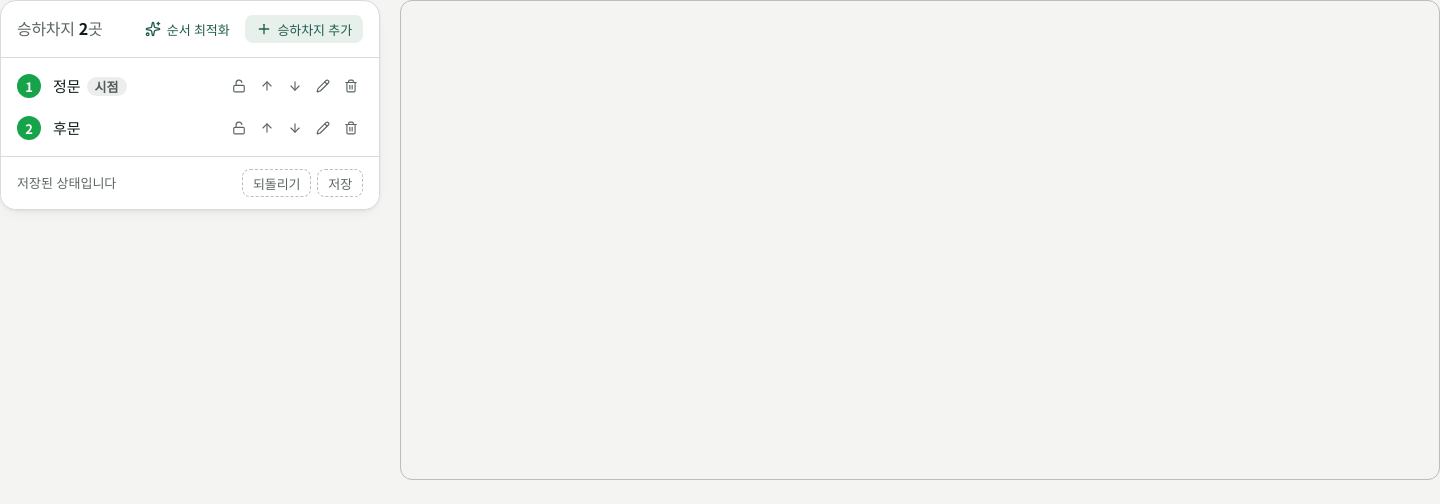
Scenario: RouteStopsPanel — 주소 자동완성과 핀 끌기(지시 2·3·10) › 주소 검색칸은 추가·수정 양식 안에만 있다
Expected: the text "정문" is shown, 53,76 -> 81,96
Click the button named "정문 수정" at [323, 86], box 309,72 -> 337,100
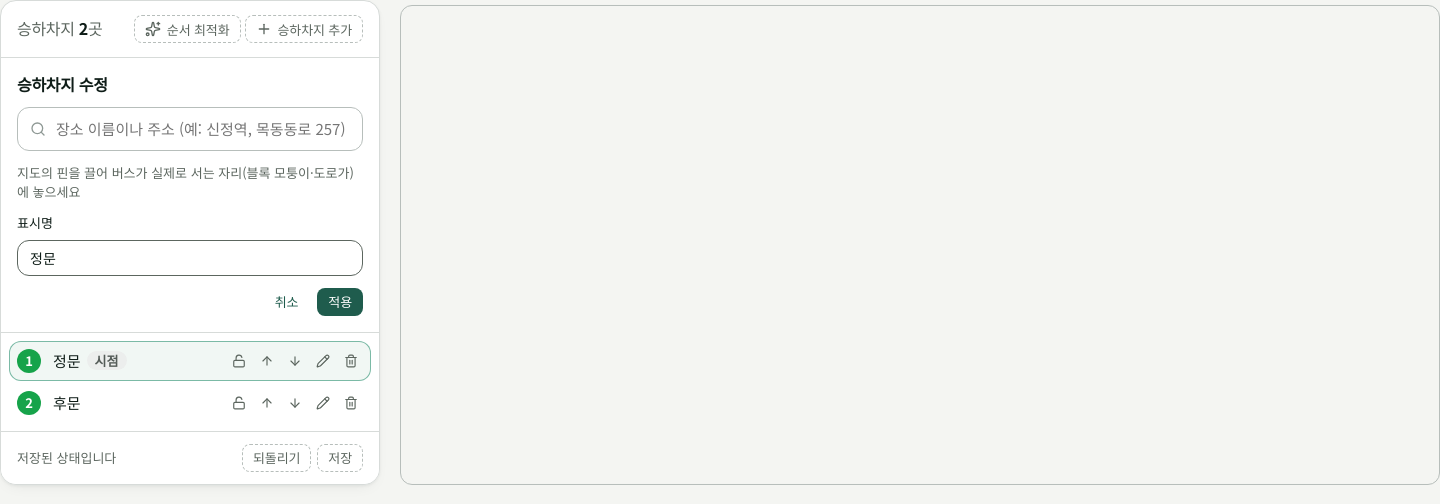
Expected: the dropdown named "주소 검색" is shown, 17,107 -> 363,151
